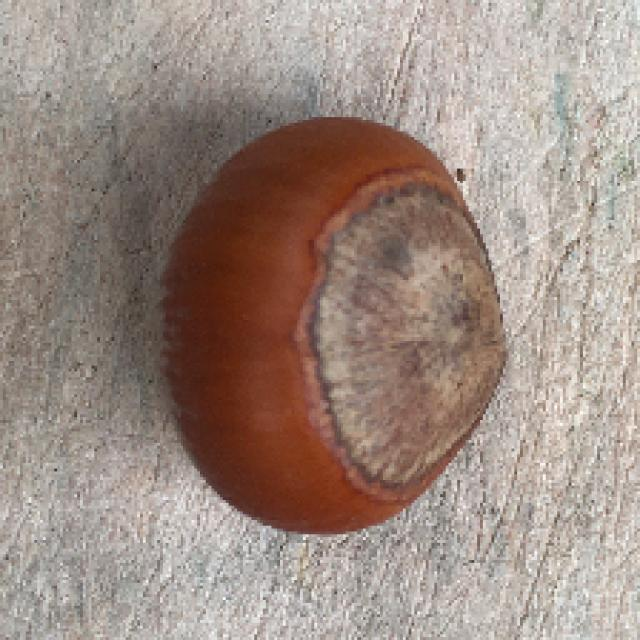qualityHazelnut: (144, 118, 514, 540)
